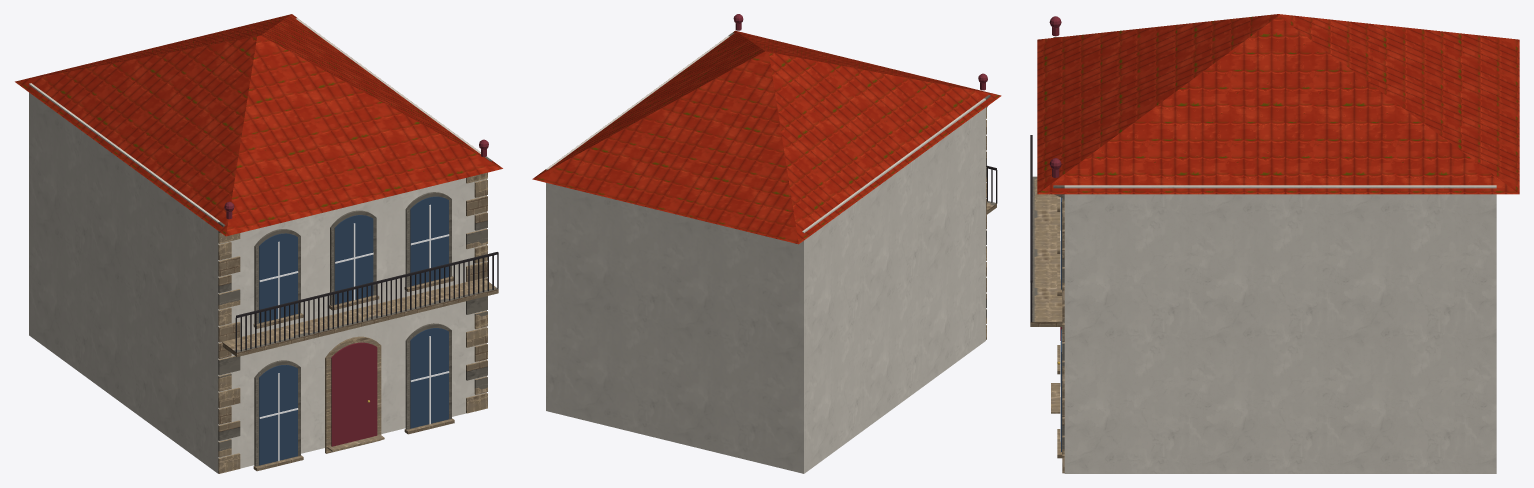
File: sobrado_w8_0.gltf
The picture shows the model from 3 angles, left to right: view 1: azimuth 30°, elevation 25°; view 2: azimuth 150°, elevation 25°; view 3: azimuth 270°, elevation 25°; orthographic projection. The views are drawn at different scales.
Visible parts, largest first — view 1: sobrado_w8_0; view 2: sobrado_w8_0; view 3: sobrado_w8_0.
Part boxes in pixels (x1,y1,x2,y2): sobrado_w8_0: [15, 14, 502, 473]; sobrado_w8_0: [532, 14, 1001, 473]; sobrado_w8_0: [1030, 14, 1519, 473].
Size of what is drawn, in the model's own units: 7.96 by 9.37 by 10.65.
Materials: 6 (3 with a texture image).
